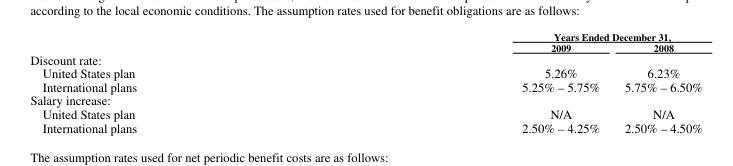table: (29, 29, 701, 135)
table column: (29, 29, 328, 135), (328, 29, 611, 135), (611, 29, 701, 135)
table column header: (29, 29, 701, 52)
table projected row header: (29, 92, 701, 106), (29, 52, 701, 65)
table row: (29, 119, 701, 135), (29, 65, 701, 79), (29, 92, 701, 106), (29, 52, 701, 65), (29, 79, 701, 92), (29, 106, 701, 119), (29, 29, 701, 41), (29, 41, 701, 52)
table spanning cell: (328, 29, 701, 41)
